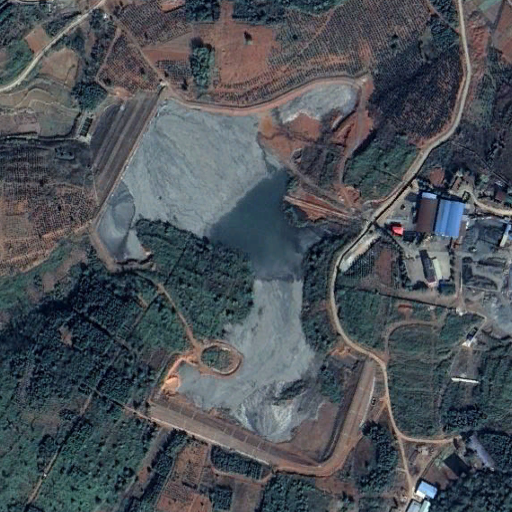tp: (89, 76, 374, 478)
